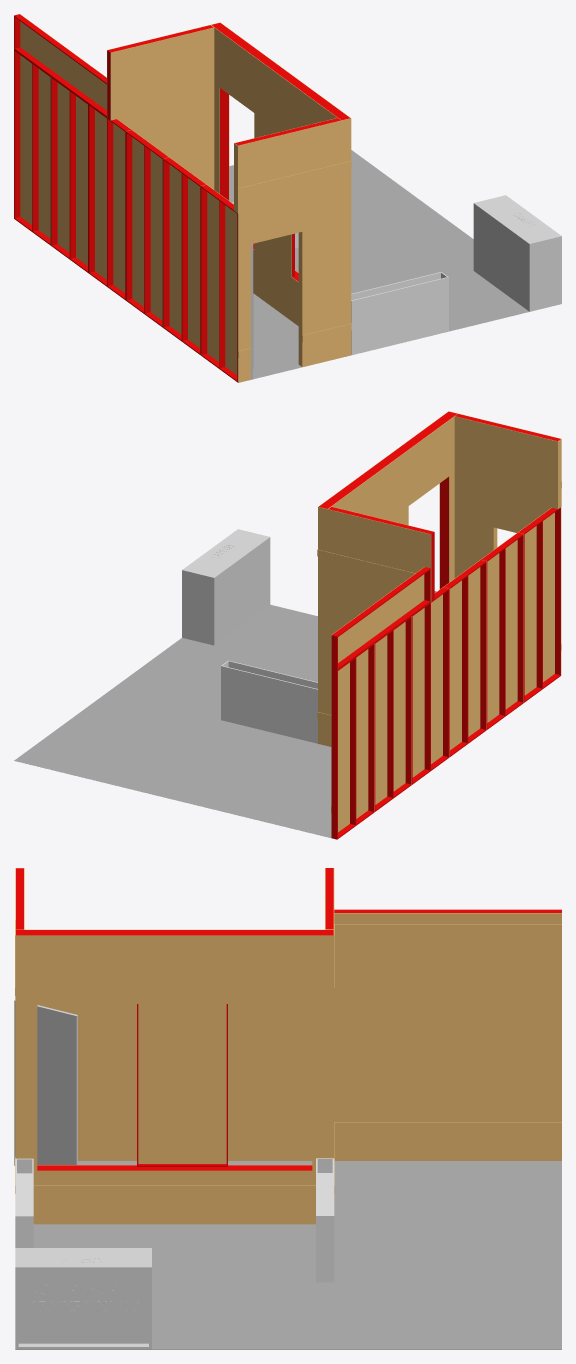
Rendered from Mining_5_КУРАЛЫС_ТЕХНИКА_CONST_PROXY main.glb.
The picture shows the model from 3 angles, top to bottom: view 1: azimuth 30°, elevation 25°; view 2: azimuth 150°, elevation 25°; view 3: azimuth 270°, elevation 25°; orthographic projection. The views are drawn at different scales.
Parts seen in each view (by area): view 1: Geom3D (×44), Geom3D_, Geom3D_МДФ 6 1750Х100 РАСПИЛ; view 2: Geom3D (×37), Geom3D_, Geom3D_МДФ 6 1644Х100 РАСПИЛ; view 3: Geom3D (×23), Geom3D_, Geom3D_ДВЕРЬ, Geom3D_МДФ 6 2500Х100 РАСПИЛ (×2), Geom3D_МДФ 6 2500Х100 РАСПИ (×2), Geom3D_МДФ 6 1012Х100 РАСПИЛ (×2), Geom3D_КОНТРАЖУР 1500Х5#1.
Part boxes in pixels (x1,y1,x2,y2): Geom3D (×44): [14, 14, 529, 382]; Geom3D_: [473, 195, 561, 311]; Geom3D_МДФ 6 1750Х100 РАСПИЛ: [238, 161, 351, 195]; Geom3D (×37): [14, 412, 560, 839]; Geom3D_: [182, 529, 270, 645]; Geom3D_МДФ 6 1644Х100 РАСПИЛ: [317, 549, 414, 578]; Geom3D (×23): [15, 909, 561, 1349]; Geom3D_: [15, 1248, 151, 1349]; Geom3D_ДВЕРЬ: [14, 1000, 77, 1165]; Geom3D_МДФ 6 2500Х100 РАСПИЛ (×2): [334, 924, 561, 1130]; Geom3D_МДФ 6 2500Х100 РАСПИ (×2): [107, 987, 334, 1193]; Geom3D_МДФ 6 1012Х100 РАСПИЛ (×2): [15, 987, 106, 1193]; Geom3D_КОНТРАЖУР 1500Х5#1: [30, 1284, 139, 1312].
Bounding box in the file's own units: 5.01 × 3.5 × 6.02.
